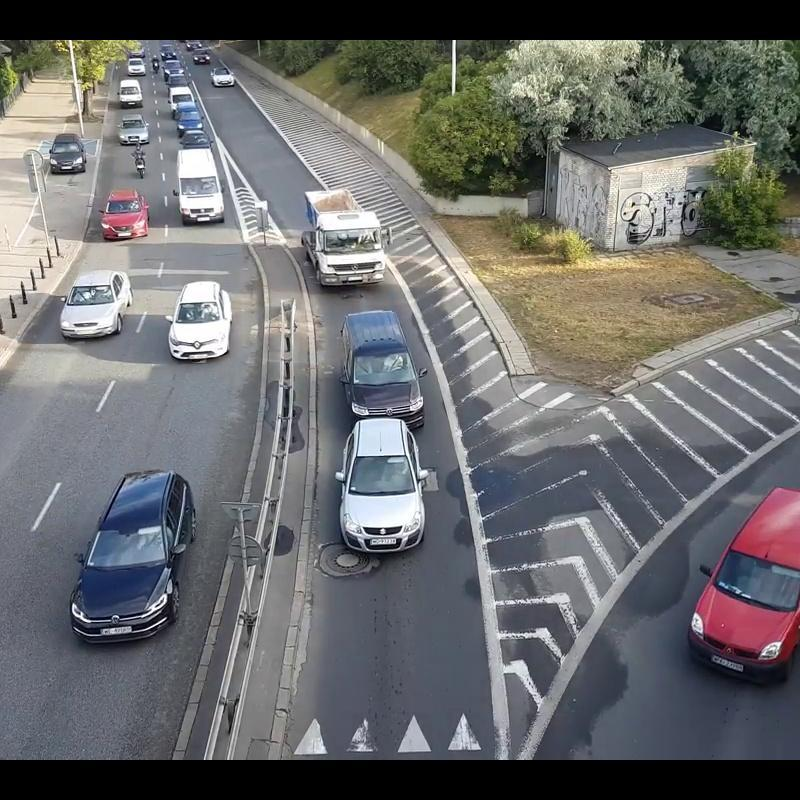biker: (132, 146, 152, 178), (149, 53, 163, 72)
car: (65, 468, 195, 653), (693, 488, 800, 680), (0, 481, 86, 659), (343, 420, 438, 555), (338, 312, 434, 417), (169, 281, 235, 358), (64, 271, 135, 338), (173, 148, 225, 225), (97, 188, 155, 237), (47, 132, 92, 173), (113, 79, 143, 110), (167, 83, 195, 115), (118, 115, 146, 146), (174, 106, 202, 134), (208, 67, 237, 88), (124, 53, 146, 76), (188, 49, 215, 66), (157, 43, 176, 62), (164, 63, 185, 80)
truck: (297, 193, 387, 289)
